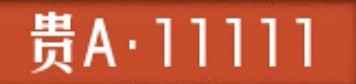A: (84, 18, 116, 67)
